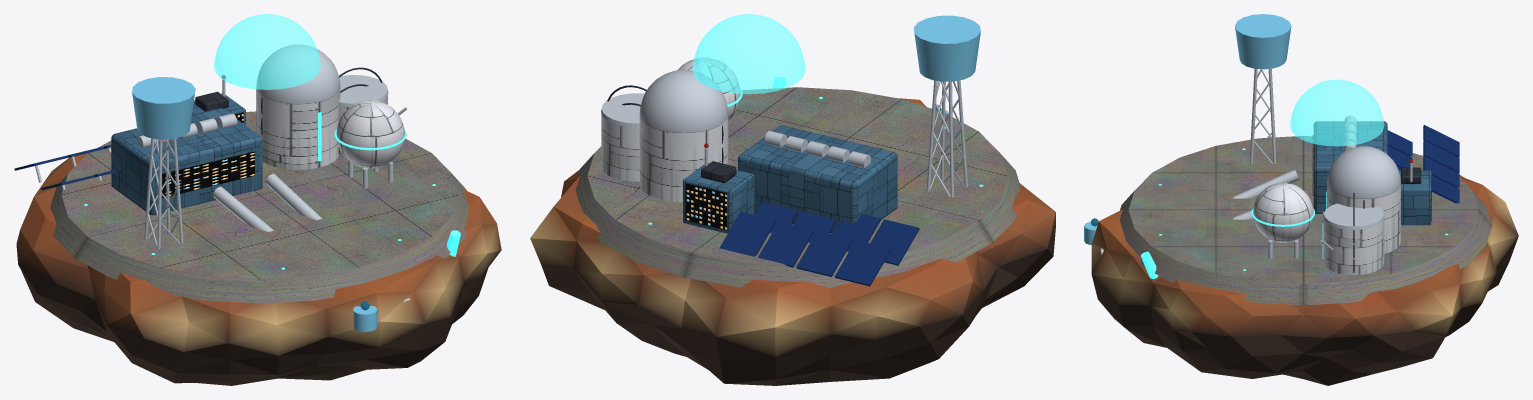
File: desal.glb
3 renders of one model, left to right at view 1: azimuth 30°, elevation 25°; view 2: azimuth 150°, elevation 25°; view 3: azimuth 270°, elevation 25°, orthographic. The views are drawn at different scales.
Bounding box in the file's own units: 5.92 × 4.25 × 6.46.
Materials: 15 (6 with a texture image).
